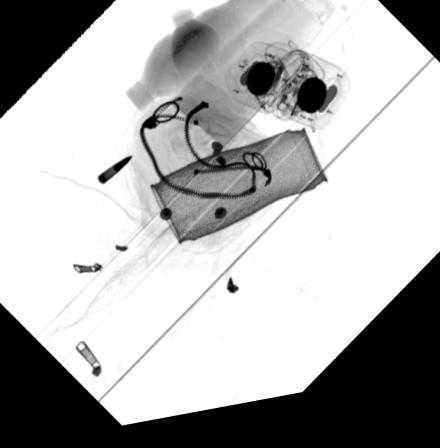Bullet: (94, 159, 133, 189)
